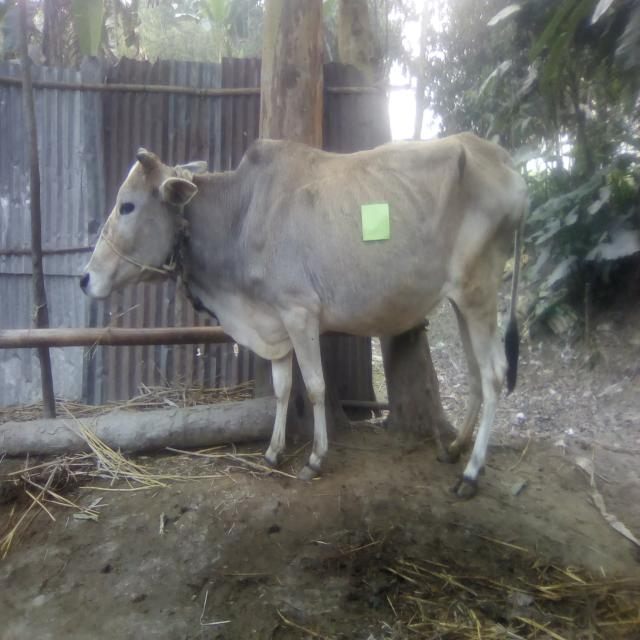badan_sapi: (259, 141, 524, 345)
sapi: (70, 123, 534, 505)
